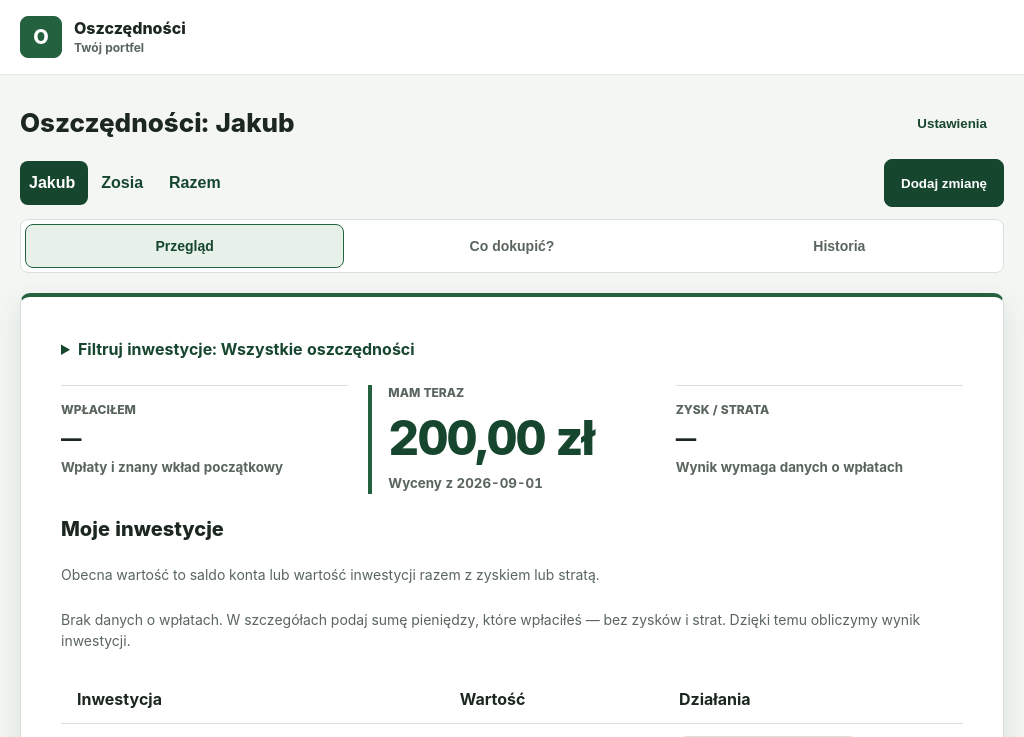
Savings workspace › clears owner filters before loading household performance
The width and height of the screenshot is (1024, 737).
Click the heading "Filtruj inwestycje: Wszystkie oszczędności" at {"x": 246, "y": 349}, box [78,339,415,359]
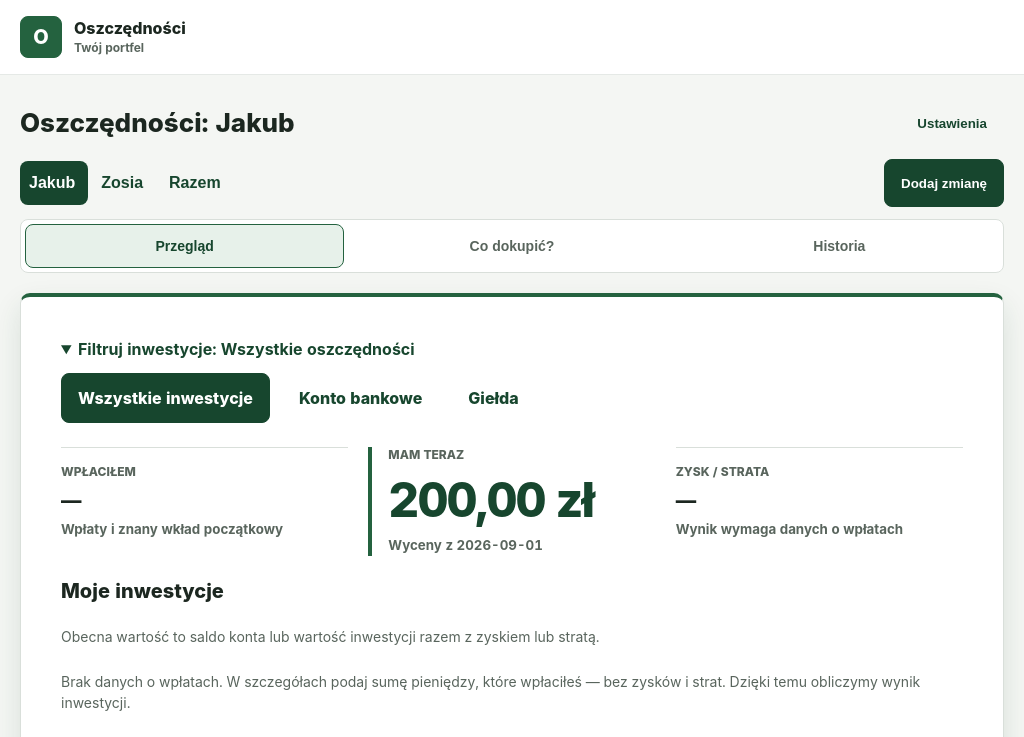
Click the button "Giełda" at {"x": 493, "y": 398}, box [451,373,536,423]
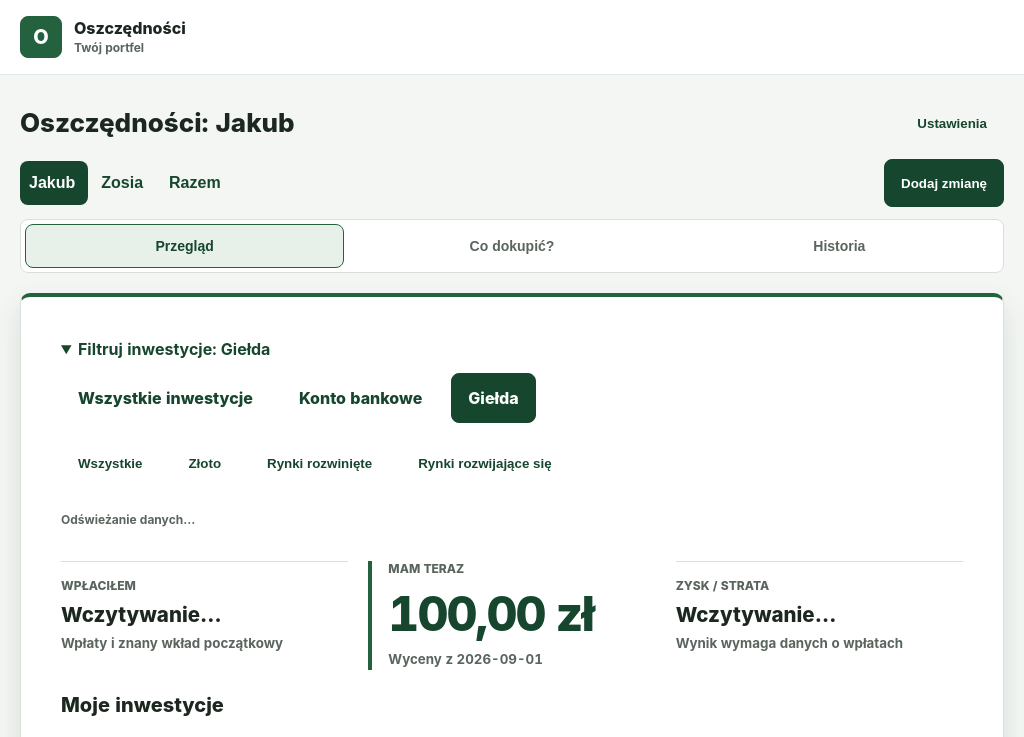
Click the button "Razem" at {"x": 197, "y": 183}, box [160,161,234,205]
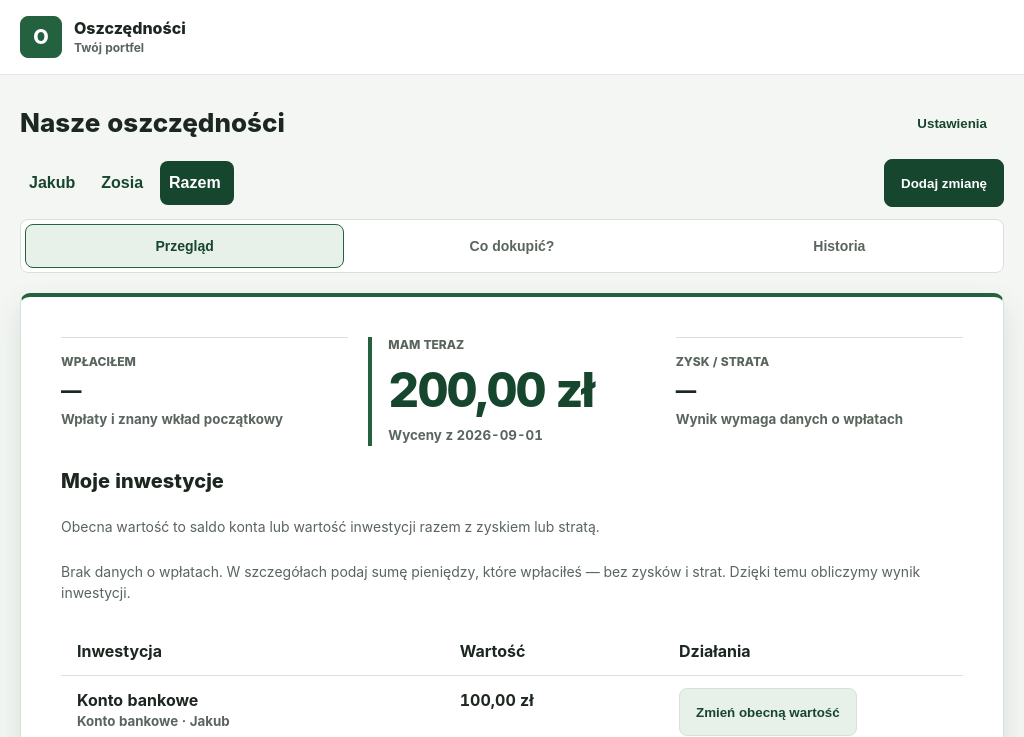
Result: the heading "Filtruj inwestycje" is gone
